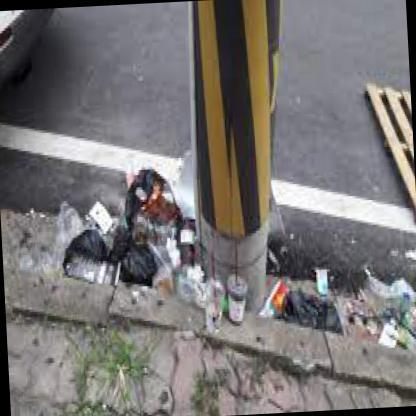Garbage: (99, 160, 184, 256), (262, 263, 348, 346), (59, 196, 119, 292), (358, 266, 415, 351), (196, 258, 254, 333), (137, 254, 187, 308)
